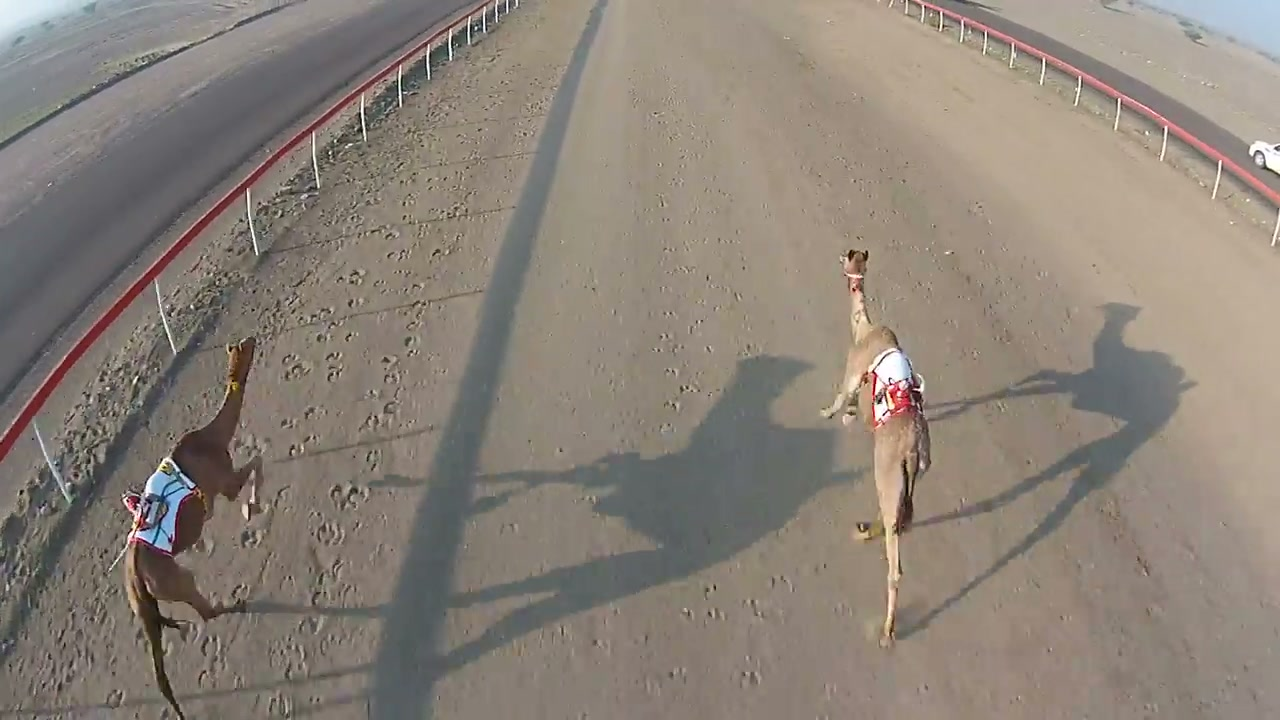animal_footprint: (131, 177, 399, 713), (260, 192, 440, 713)
